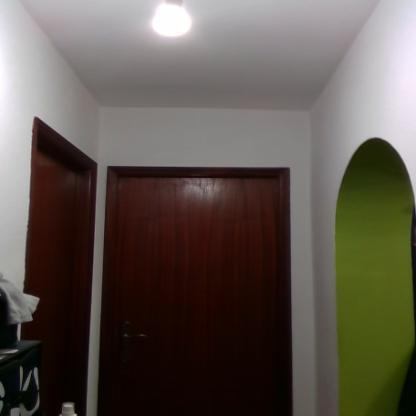door: (110, 177, 291, 416), (32, 147, 87, 416)
lever: (119, 330, 150, 340)
